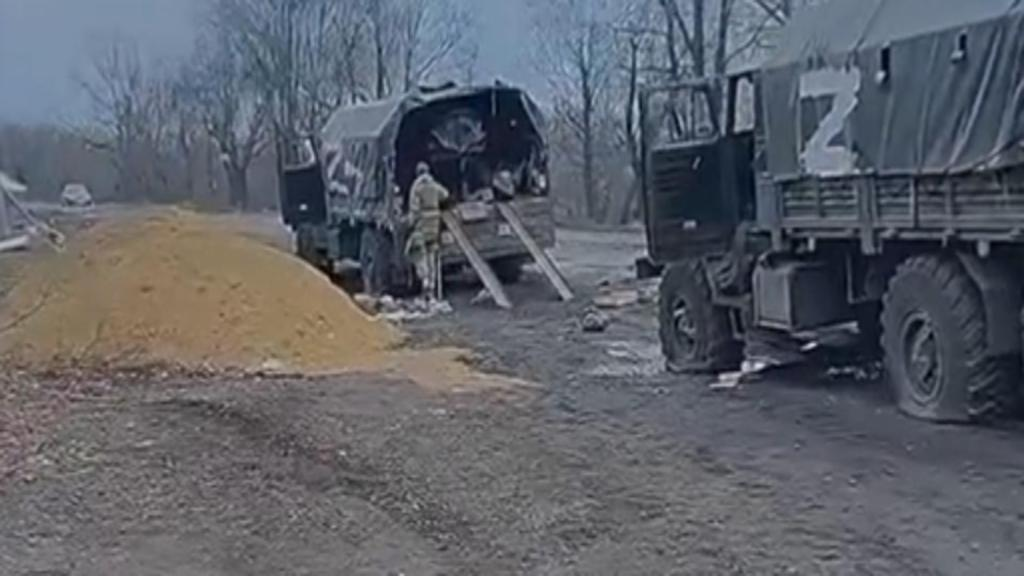CAR: (60, 177, 94, 207)
TRUCK: (626, 8, 1022, 427), (268, 76, 554, 298)
